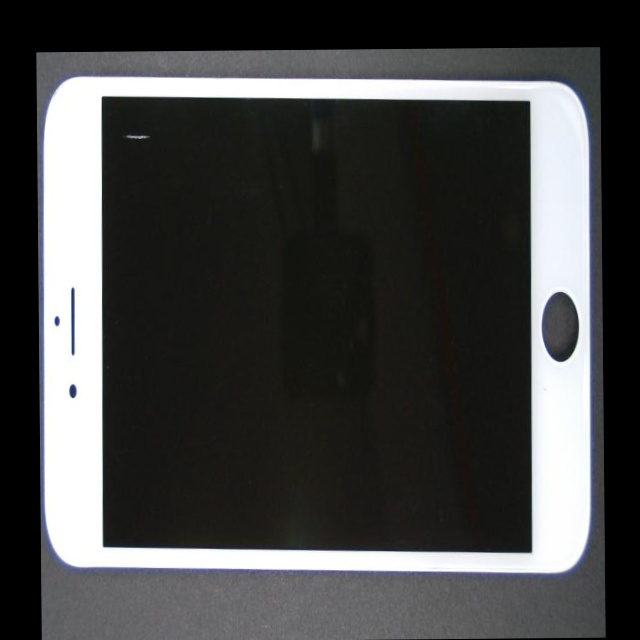scratch: (60, 102, 177, 204)
